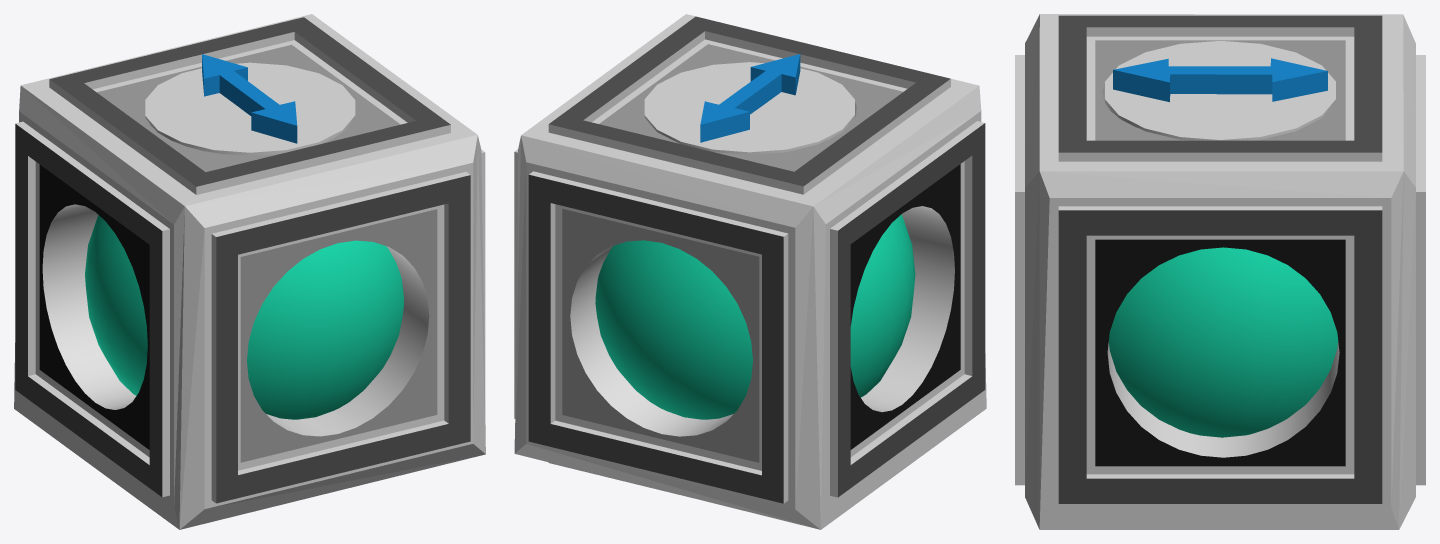
Rendered from 2WayCube.fbx.
3 views of the same model, side by side, from view 1: azimuth 30°, elevation 25°; view 2: azimuth 150°, elevation 25°; view 3: azimuth 270°, elevation 25° (orthographic). The views are drawn at different scales.
Parts seen in each view (by area): view 1: Box001, Sphere001, Cylinder004, Arrow, Arrow001; view 2: Box001, Sphere001, Cylinder004, Arrow001, Arrow; view 3: Box001, Sphere001, Cylinder004, Arrow001, Arrow.
Part boxes in pixels (box(x1,y1,x2,y2)): Box001: box(14, 14, 485, 529); Sphere001: box(85, 215, 403, 419); Cylinder004: box(145, 62, 355, 155); Arrow: box(240, 87, 297, 143); Arrow001: box(202, 54, 258, 107); Box001: box(514, 14, 986, 529); Sphere001: box(595, 214, 915, 419); Cylinder004: box(644, 62, 854, 154); Arrow001: box(700, 88, 757, 142); Arrow: box(741, 54, 800, 109); Box001: box(1015, 14, 1425, 529); Sphere001: box(1108, 247, 1338, 437); Cylinder004: box(1105, 41, 1335, 140); Arrow001: box(1216, 58, 1327, 101); Arrow: box(1113, 58, 1224, 102).
Bounding box in the file's own units: 36.8 × 38.13 × 36.8.
